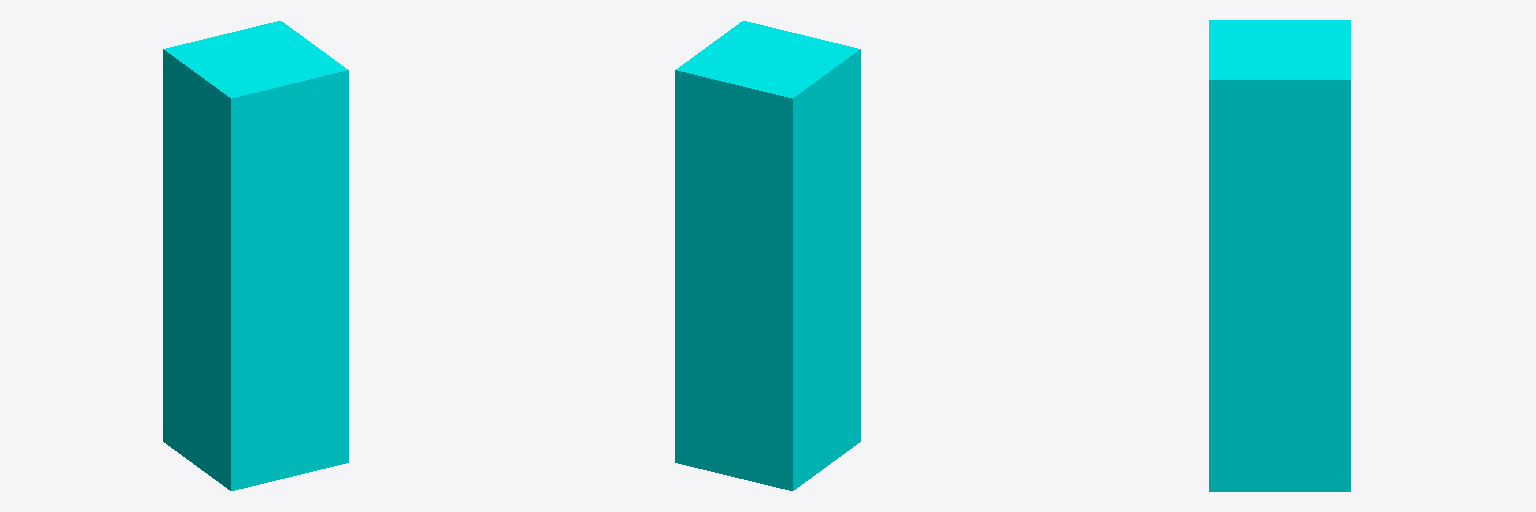
URDF robot description (block_b):
<?xml version="1.0"?>
<robot  name="block_b" >
 <link  name="block_b" >
  <inertial >
   <origin  xyz="0 0 0"  rpy="0 0 0" />
   <mass  value="1.0" />
   <inertia  iyy="0.001"  ixx="0.001"  iyz="0"  izz="0.001"  ixy="0"  ixz="0" />
  </inertial>
  <collision >
   <origin  xyz="0 0 0"  rpy="0 0 0" />
   <geometry >
    <box  size="0.025 0.025 0.08" />
   </geometry>
  </collision>
  <visual >
   <origin  xyz="0 0 0"  rpy="0 0 0" />
   <geometry >
    <box  size="0.025 0.025 0.08" />
   </geometry>
   <material  name="color" >
    <color  rgba="0 1 1 1.0" />
   </material>
  </visual>
 </link>
</robot>

--- Render facts (derived) ---
3 views of the same robot in one strip: view 1: azimuth 30°, elevation 25°; view 2: azimuth 150°, elevation 25°; view 3: azimuth 270°, elevation 25° (orthographic).
Robot: block_b — 1 links, 0 joints (none); root link block_b; default pose: all joints at 0.
Visible links, largest first — view 1: block_b; view 2: block_b; view 3: block_b.
Link boxes in pixels (x1=…): block_b: x1=163, y1=21, x2=348, y2=490; block_b: x1=675, y1=21, x2=860, y2=490; block_b: x1=1209, y1=20, x2=1350, y2=491.
Size in the robot's own frame: 0.025 by 0.025 by 0.08 metres.
Geometry: primitives only (box / cylinder / sphere), no mesh files.